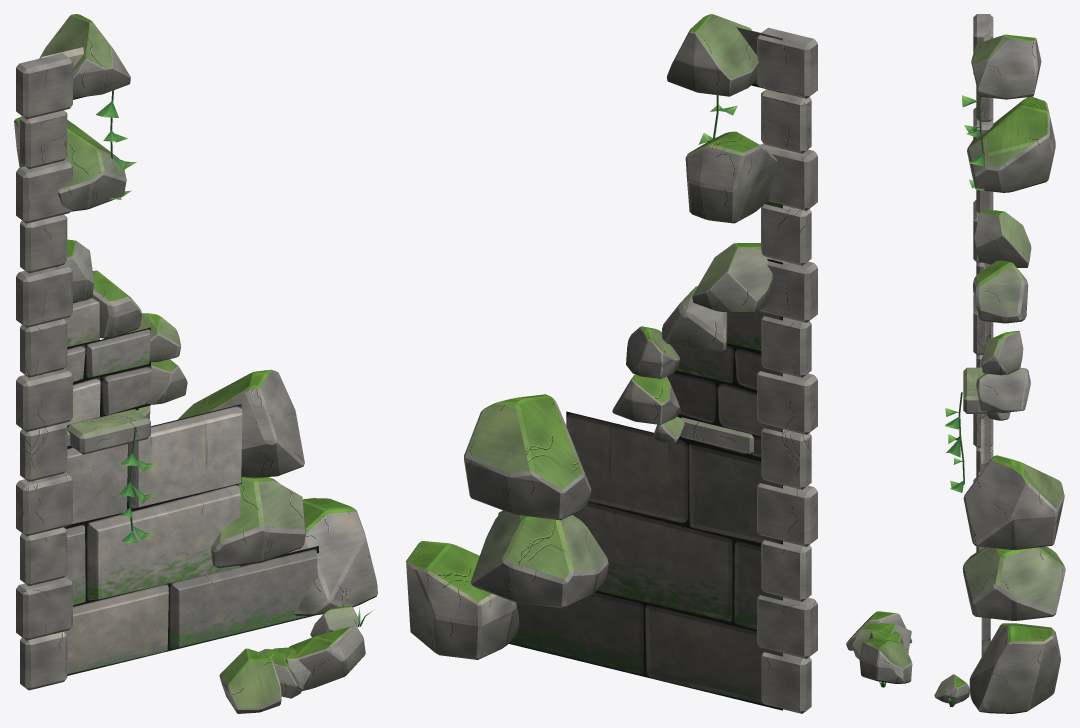
File: pit_wall_broken.glb
The picture shows the model from 3 angles, left to right: view 1: azimuth 30°, elevation 25°; view 2: azimuth 150°, elevation 25°; view 3: azimuth 270°, elevation 25°; orthographic projection. The views are drawn at different scales.
Parts seen in each view (by area): view 1: pit_wall_broken_face, pit_wall_broken_rubble, pit_wall_broken_blocks, pit_wall_broken_green; view 2: pit_wall_broken_rubble, pit_wall_broken_face, pit_wall_broken_blocks; view 3: pit_wall_broken_rubble, pit_wall_broken_blocks, pit_wall_broken_green, pit_wall_broken_face.
Boxes of the visible parts, bbox=[...] form: pit_wall_broken_face: bbox=[40, 46, 318, 675]; pit_wall_broken_rubble: bbox=[14, 14, 377, 713]; pit_wall_broken_blocks: bbox=[16, 53, 150, 690]; pit_wall_broken_green: bbox=[96, 90, 373, 626]; pit_wall_broken_rubble: bbox=[406, 14, 777, 659]; pit_wall_broken_face: bbox=[508, 27, 782, 710]; pit_wall_broken_blocks: bbox=[680, 27, 817, 713]; pit_wall_broken_rubble: bbox=[846, 34, 1065, 713]; pit_wall_broken_blocks: bbox=[963, 14, 993, 551]; pit_wall_broken_green: bbox=[879, 95, 984, 707]; pit_wall_broken_face: bbox=[978, 23, 990, 656].
Size of the model in its own units: 7.19 by 12.52 by 4.3.
Materials: 3 (3 with a texture image).
